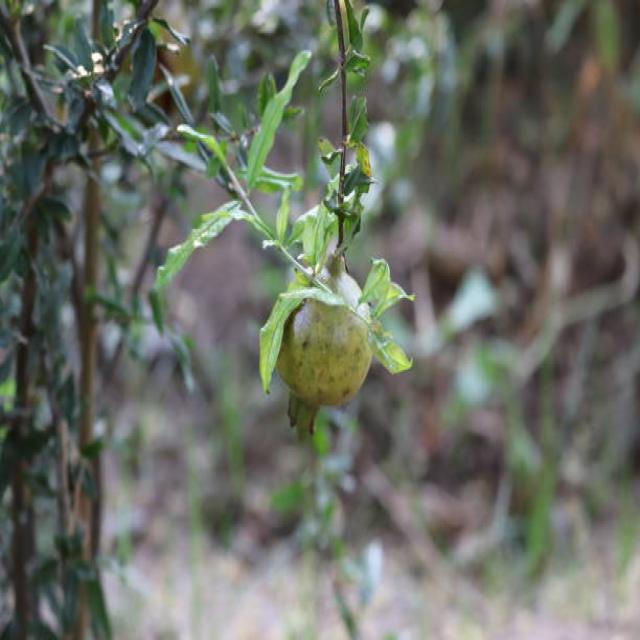Unripe: (277, 253, 374, 442)
